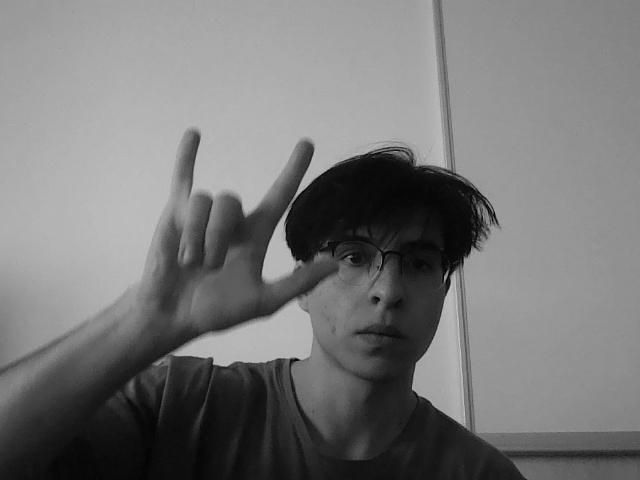I_Love_You: (154, 128, 300, 352)
